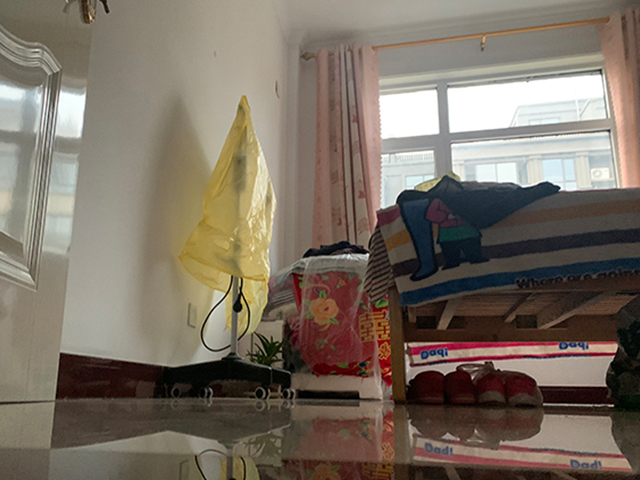bed: (361, 174, 640, 406)
curtain: (310, 44, 386, 251)
